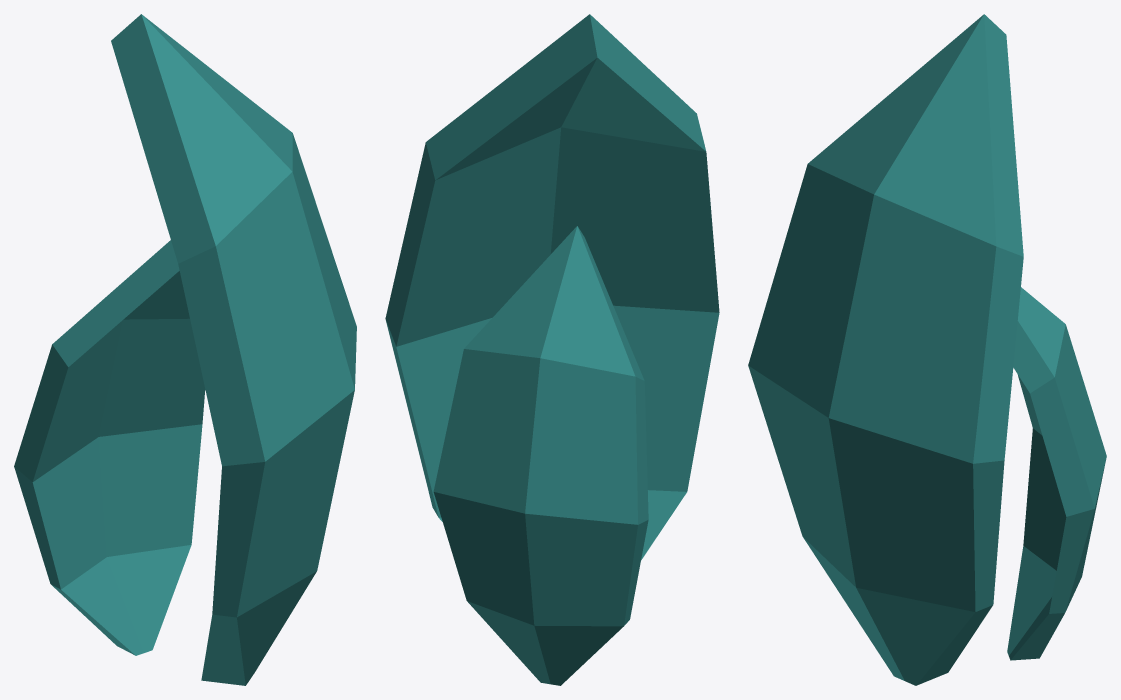
The model's file is Grass_8_Blue.fbx.
3 views of the same model, side by side, from view 1: azimuth 30°, elevation 25°; view 2: azimuth 150°, elevation 25°; view 3: azimuth 270°, elevation 25° (orthographic). The views are drawn at different scales.
Visible parts, largest first — view 1: Grass_8_Blue; view 2: Grass_8_Blue; view 3: Grass_8_Blue.
Boxes of the visible parts, x1,y1,x2,y2 form: Grass_8_Blue: [14, 14, 356, 685]; Grass_8_Blue: [385, 14, 719, 685]; Grass_8_Blue: [748, 14, 1106, 685].
Size of the model in its own units: 22.62 by 47.35 by 24.25.
